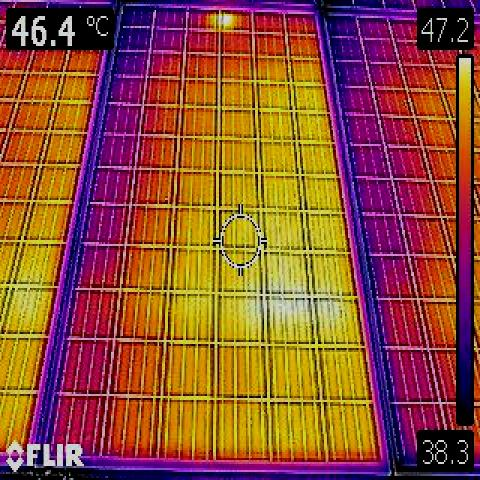fault: (210, 12, 232, 30)
